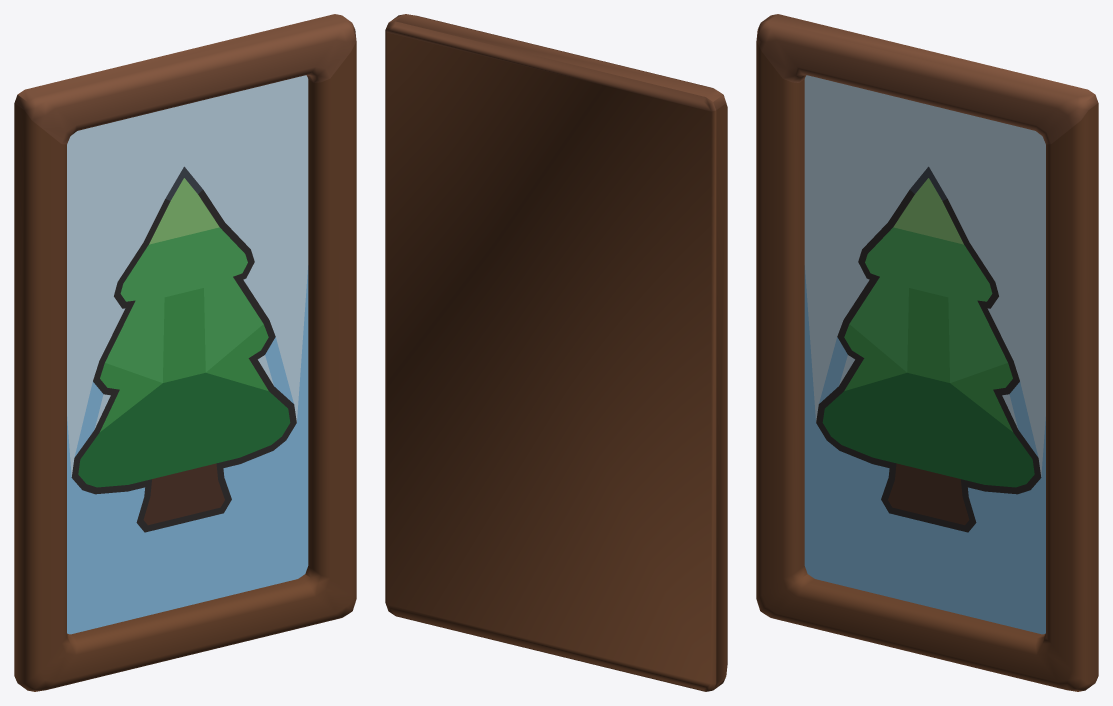
File: quadro_natal_pinheiro_pacote.glb
The picture shows the model from 3 angles, left to right: view 1: azimuth 30°, elevation 25°; view 2: azimuth 150°, elevation 25°; view 3: azimuth 330°, elevation 25°; orthographic projection.
Parts seen in each view (by area): view 1: quadro_natal_pinheiro_pacote; view 2: quadro_natal_pinheiro_pacote; view 3: quadro_natal_pinheiro_pacote.
Boxes of the visible parts, bbox=[...] form: quadro_natal_pinheiro_pacote: bbox=[14, 14, 356, 691]; quadro_natal_pinheiro_pacote: bbox=[385, 14, 727, 691]; quadro_natal_pinheiro_pacote: bbox=[756, 14, 1098, 691].
Size of the model in its own units: 0.512 by 0.88 by 0.048.
Materials: 1 (1 with a texture image).
